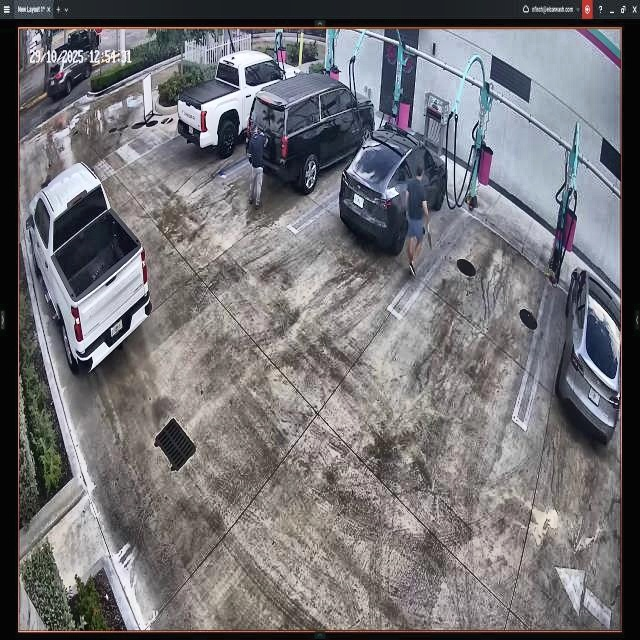Car: (248, 74, 374, 185), (342, 127, 448, 253), (178, 52, 302, 152)
